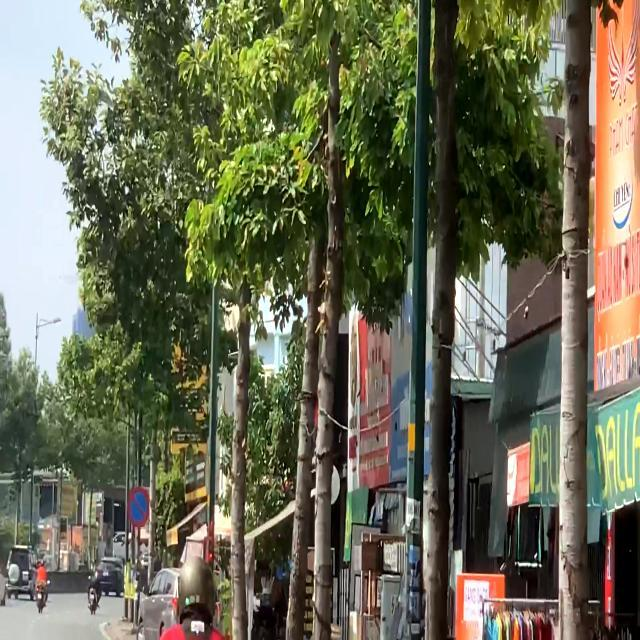P-131a: (126, 487, 150, 529)
